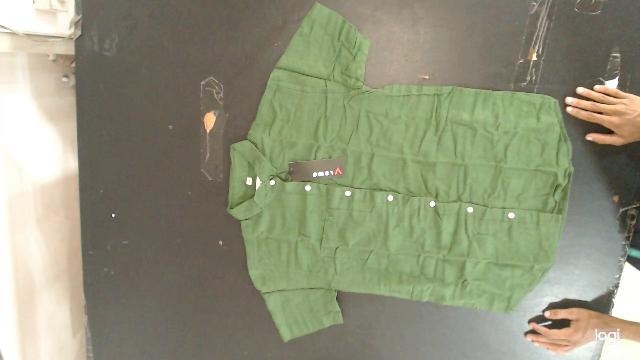new-garment: (228, 3, 573, 341)
